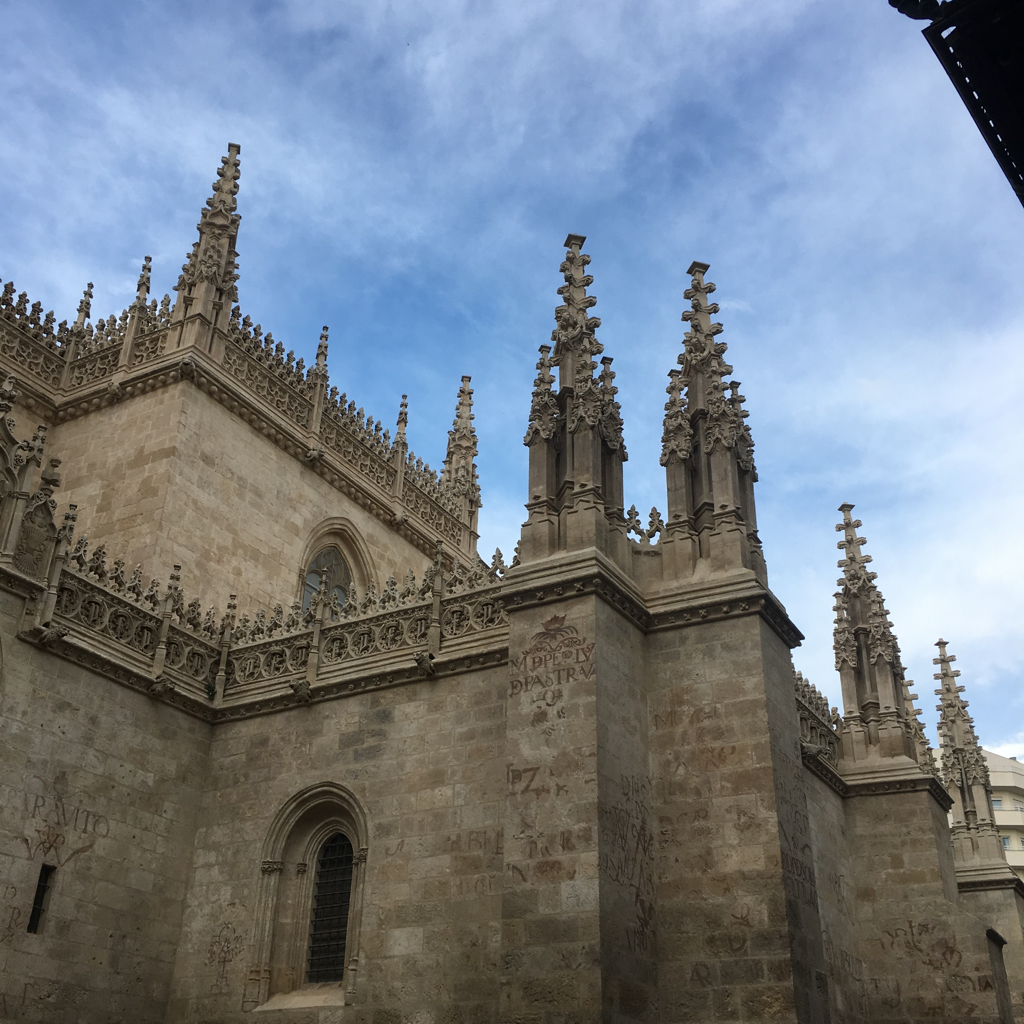arco-apuntado: (259, 786, 364, 865), (292, 515, 369, 595)
pinaculo-gotico: (657, 253, 757, 450), (529, 223, 618, 413), (826, 494, 899, 642), (176, 138, 247, 287), (920, 632, 994, 772), (438, 370, 485, 496)
